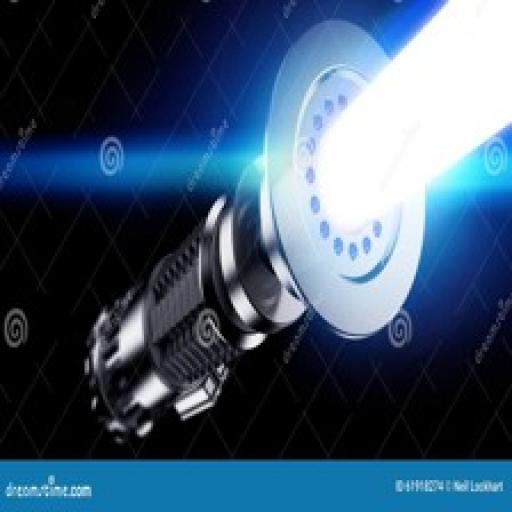lightsaber: (78, 2, 510, 450)
